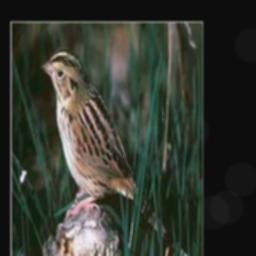Sparrow: (41, 47, 184, 252)
